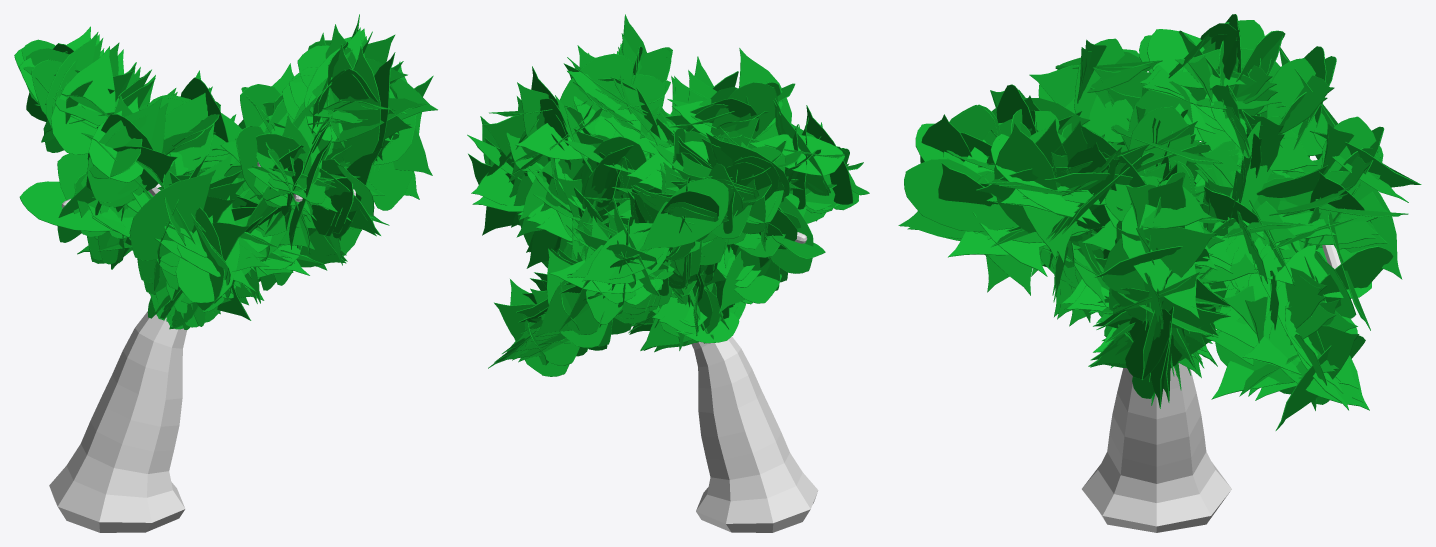
The model's file is tree-low-poly.fbx.
The picture shows the model from 3 angles, left to right: view 1: azimuth 30°, elevation 25°; view 2: azimuth 150°, elevation 25°; view 3: azimuth 270°, elevation 25°; orthographic projection. The views are drawn at different scales.
Visible parts, largest first — view 1: Tree, Tree|Daunn|Dupli|410, Tree|Daunn|Dupli|400, Tree|Daunn|Dupli|366, Tree|Daunn|Dupli|789, Tree|Daunn|Dupli|803, Tree|Daunn|Dupli|773, Tree|Daunn|Dupli|698, Tree|Daunn|Dupli|770, Tree|Daunn|Dupli|772, Tree|Daunn|Dupli|387, Tree|Daunn|Dupli|994 (+42 smaller); view 2: Tree, Tree|Daunn|Dupli|401, Tree|Daunn|Dupli|817, Tree|Daunn|Dupli|406, Tree|Daunn|Dupli|840, Tree|Daunn|Dupli|409, Tree|Daunn|Dupli|666, Tree|Daunn|Dupli|367, Tree|Daunn|Dupli|926, Tree|Daunn|Dupli|925, Tree|Daunn|Dupli|410, Tree|Daunn|Dupli|849 (+52 smaller); view 3: Tree, Tree|Daunn|Dupli|827, Tree|Daunn|Dupli|414, Tree|Daunn|Dupli|806, Tree|Daunn|Dupli|413, Tree|Daunn|Dupli|412, Tree|Daunn|Dupli|420, Tree|Daunn|Dupli|931, Tree|Daunn|Dupli|404, Tree|Daunn|Dupli|767, Tree|Daunn|Dupli|961, Tree|Daunn|Dupli|698 (+63 smaller).
Boxes of the visible parts, bbox=[...] form: Tree: bbox=[49, 162, 355, 532]; Tree|Daunn|Dupli|410: bbox=[129, 169, 215, 260]; Tree|Daunn|Dupli|400: bbox=[51, 46, 115, 154]; Tree|Daunn|Dupli|366: bbox=[19, 181, 129, 231]; Tree|Daunn|Dupli|789: bbox=[175, 195, 239, 302]; Tree|Daunn|Dupli|803: bbox=[340, 46, 380, 164]; Tree|Daunn|Dupli|773: bbox=[87, 97, 162, 202]; Tree|Daunn|Dupli|698: bbox=[368, 112, 421, 210]; Tree|Daunn|Dupli|770: bbox=[92, 103, 168, 207]; Tree|Daunn|Dupli|772: bbox=[88, 97, 143, 182]; Tree|Daunn|Dupli|387: bbox=[164, 86, 212, 139]; Tree|Daunn|Dupli|994: bbox=[46, 32, 98, 128]; Tree: bbox=[691, 232, 818, 532]; Tree|Daunn|Dupli|401: bbox=[639, 178, 728, 251]; Tree|Daunn|Dupli|817: bbox=[559, 53, 633, 110]; Tree|Daunn|Dupli|406: bbox=[582, 223, 669, 284]; Tree|Daunn|Dupli|840: bbox=[710, 82, 778, 139]; Tree|Daunn|Dupli|409: bbox=[749, 134, 844, 175]; Tree|Daunn|Dupli|666: bbox=[515, 116, 615, 159]; Tree|Daunn|Dupli|367: bbox=[770, 197, 813, 273]; Tree|Daunn|Dupli|926: bbox=[547, 248, 607, 347]; Tree|Daunn|Dupli|925: bbox=[535, 280, 589, 336]; Tree|Daunn|Dupli|410: bbox=[806, 105, 853, 204]; Tree|Daunn|Dupli|849: bbox=[739, 48, 791, 141]; Tree: bbox=[1082, 245, 1340, 532]; Tree|Daunn|Dupli|827: bbox=[904, 158, 1022, 231]; Tree|Daunn|Dupli|414: bbox=[1102, 226, 1216, 294]; Tree|Daunn|Dupli|806: bbox=[994, 123, 1057, 233]; Tree|Daunn|Dupli|413: bbox=[1121, 204, 1199, 318]; Tree|Daunn|Dupli|412: bbox=[1105, 176, 1212, 228]; Tree|Daunn|Dupli|420: bbox=[1129, 106, 1191, 175]; Tree|Daunn|Dupli|931: bbox=[1315, 171, 1402, 279]; Tree|Daunn|Dupli|404: bbox=[1318, 246, 1393, 308]; Tree|Daunn|Dupli|767: bbox=[1038, 84, 1133, 142]; Tree|Daunn|Dupli|961: bbox=[1267, 58, 1315, 117]; Tree|Daunn|Dupli|698: bbox=[1125, 309, 1172, 379].
Size of what is drawn, in the model's own units: 788 by 876 by 834.
